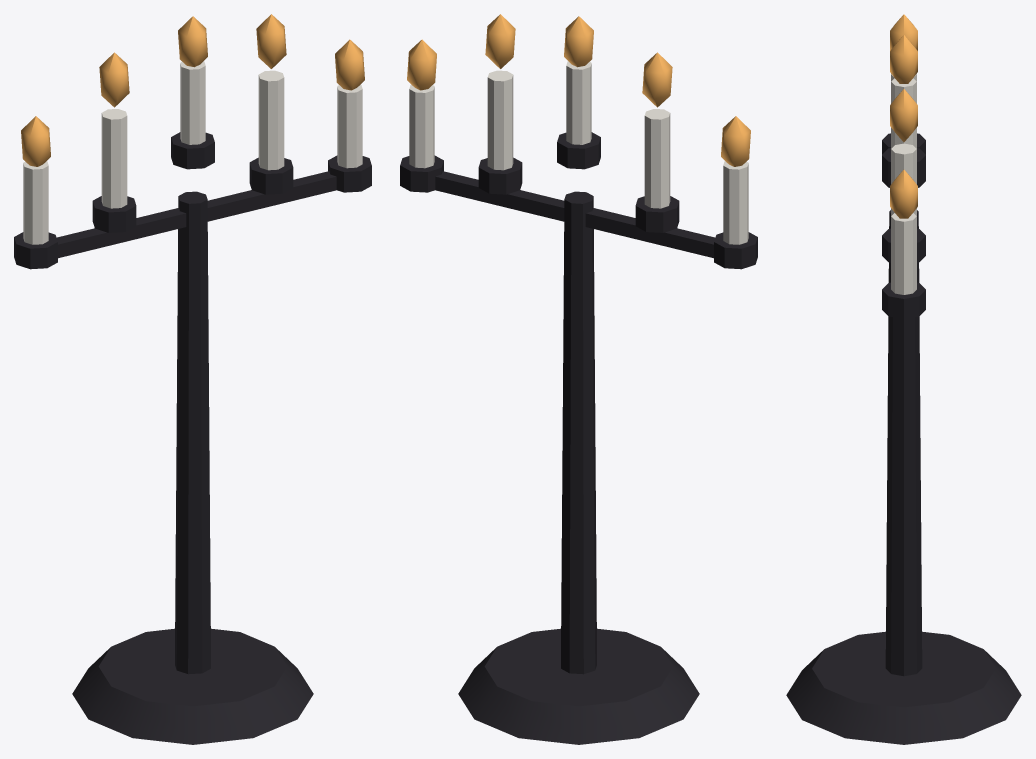
Rendered from candelabra.glb.
3 renders of one model, left to right at view 1: azimuth 30°, elevation 25°; view 2: azimuth 150°, elevation 25°; view 3: azimuth 270°, elevation 25°, orthographic. The views are drawn at different scales.
Parts seen in each view (by area): view 1: candelabra; view 2: candelabra; view 3: candelabra.
Boxes of the visible parts, bbox=[...] form: candelabra: bbox=[14, 14, 371, 744]; candelabra: bbox=[400, 14, 757, 744]; candelabra: bbox=[786, 14, 1021, 744].
Size of the model in its own units: 1.08 by 1.98 by 0.64.
